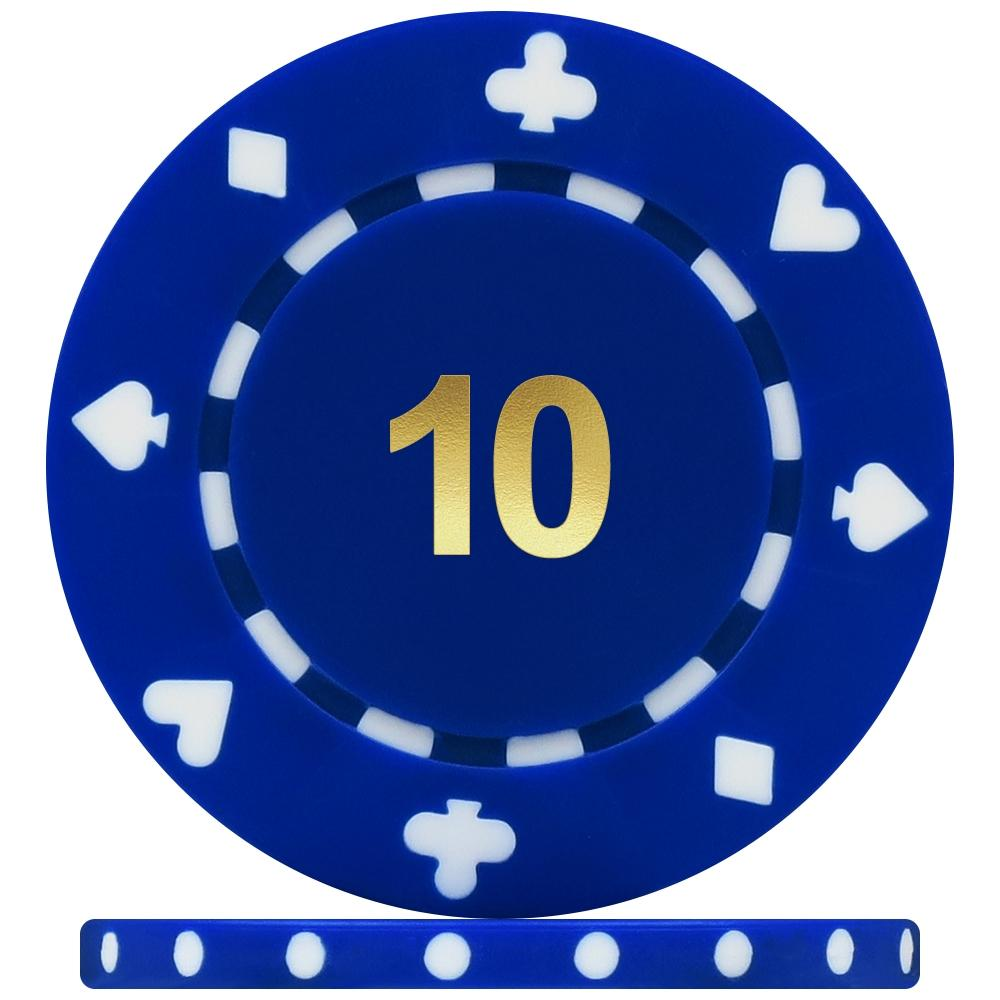chip-blue: (80, 920, 920, 988)
